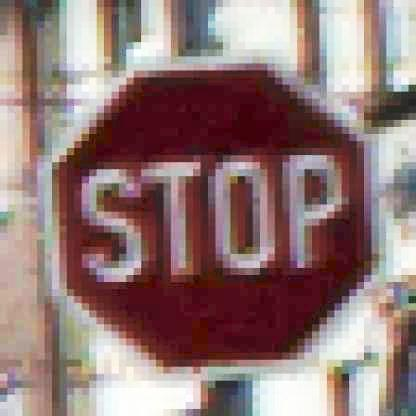Stop Sign: (41, 52, 378, 378)
